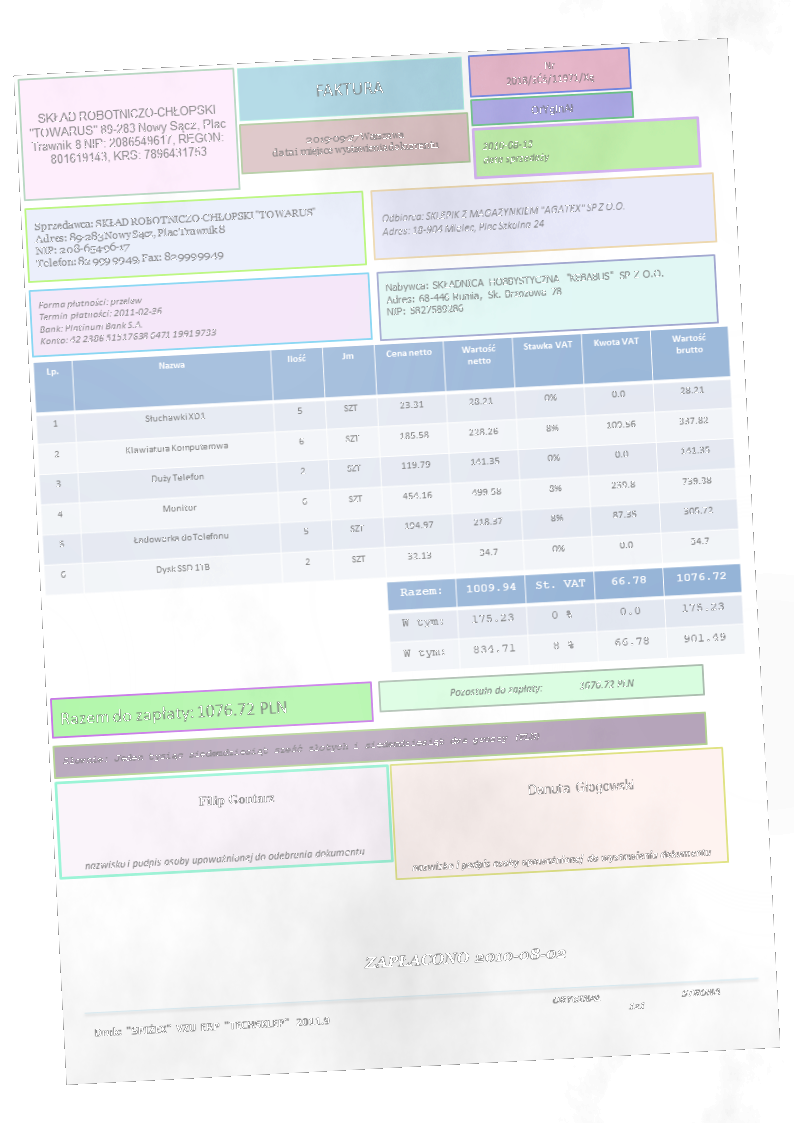Table: (31, 325, 739, 597), (385, 563, 747, 673)
TextBox: (30, 204, 320, 272), (60, 729, 541, 768), (382, 266, 669, 318), (26, 101, 230, 168), (35, 289, 219, 349), (379, 199, 628, 239), (409, 844, 713, 874), (82, 845, 367, 873), (59, 697, 289, 729), (92, 1013, 333, 1040), (359, 943, 569, 973), (268, 126, 443, 160), (550, 986, 724, 1016), (448, 676, 637, 700), (502, 58, 597, 90), (526, 777, 635, 800), (479, 136, 552, 167), (312, 78, 385, 101), (196, 789, 276, 809), (528, 99, 576, 118)
